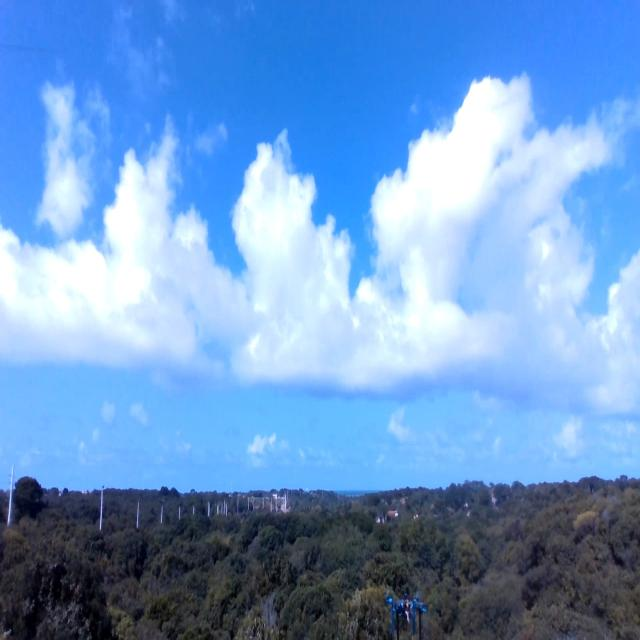-uav-: (379, 580, 435, 640)
